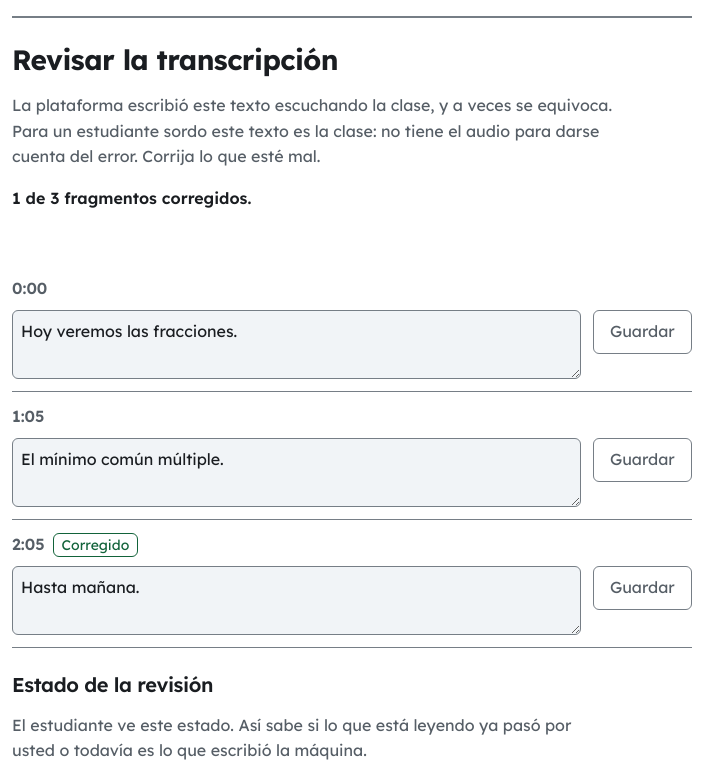
Scenario: Revisión de la transcripción › un fragmento no se puede dejar vacío
Clear the text box named "empieza en el segundo 0" at (296, 345), box [12, 310, 581, 379]
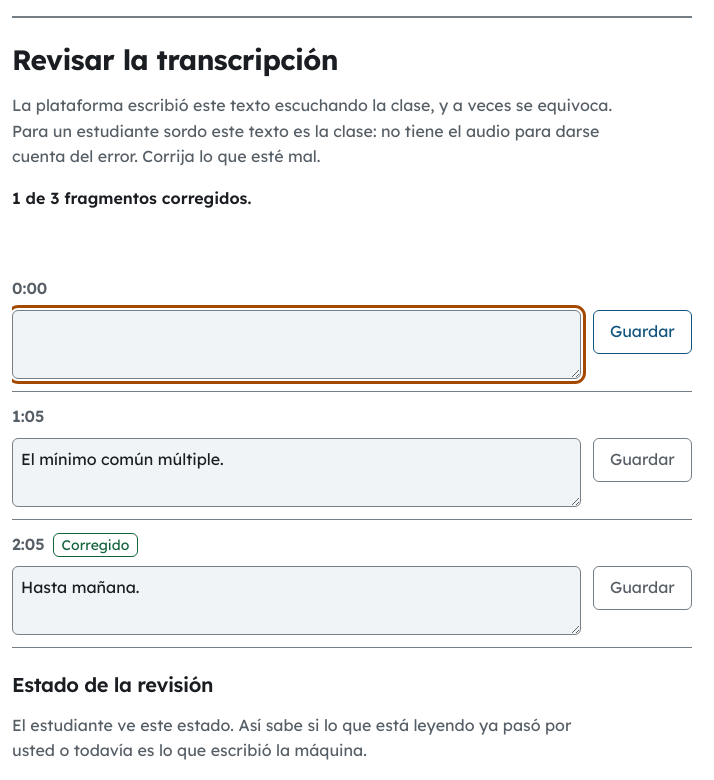
Click the button named "empieza en el segundo 0" at (642, 332), box [593, 310, 692, 354]
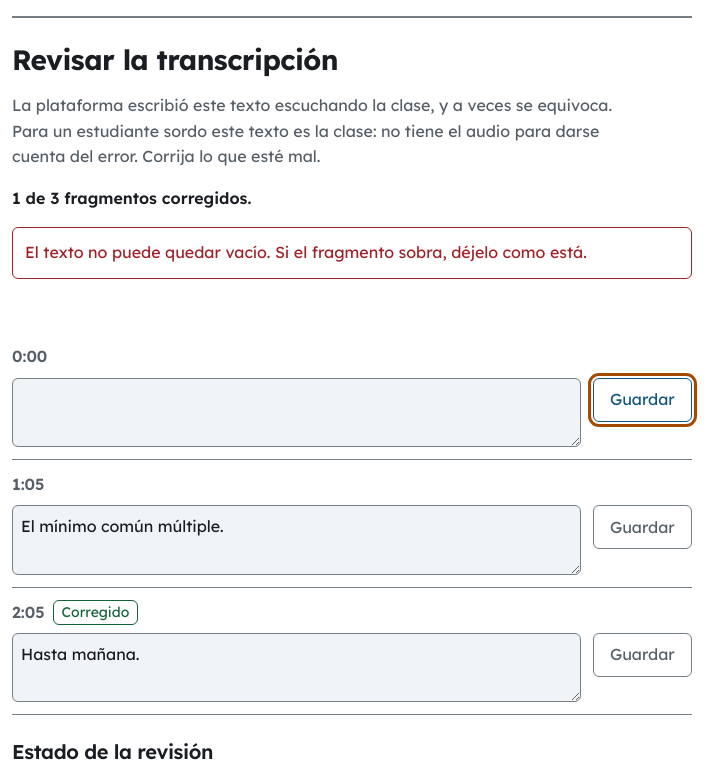
Expected: the message shows "no puede quedar vacío", [25, 242, 587, 262]
